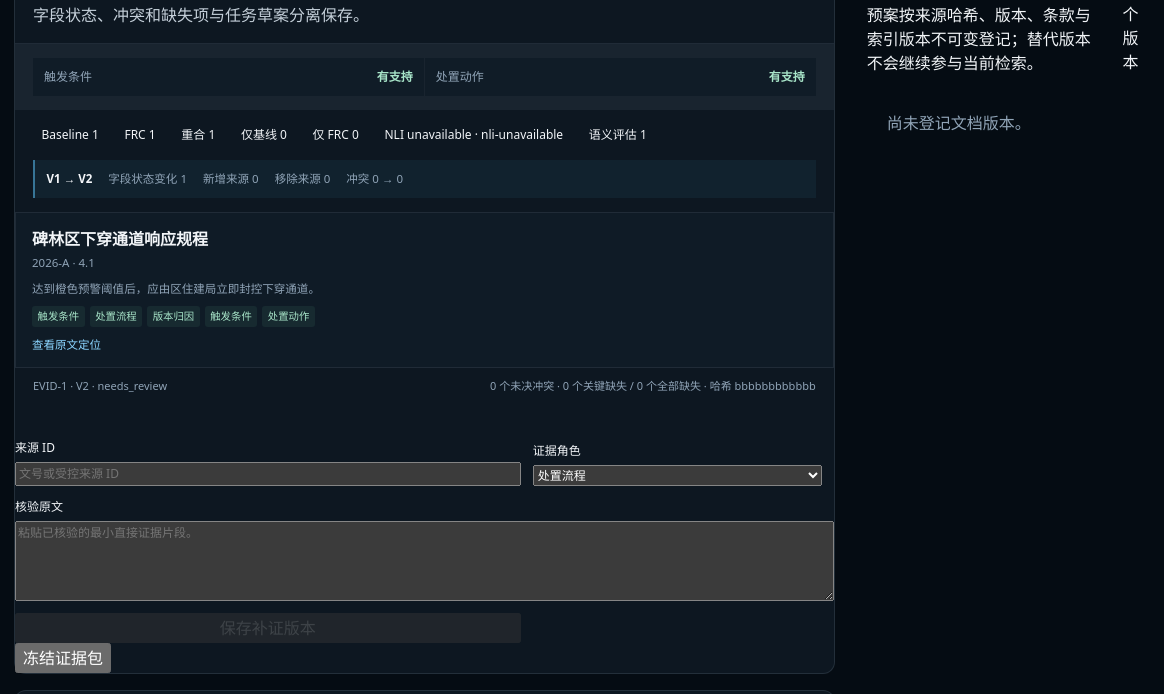
Test: ResponseWorkflowPage › 展示九字段证据、原文定位、NLI 降级状态和版本差异
This screenshot has width=1164, height=694.
(page scrolled)
expect the text "NLI unavailable · nli-unavailable" is shown: met, box [376,122,572,148]
expect the text "V1 → V2" is shown: met, box [47,170,92,187]
Click the button "查看原文定位": [67, 344] box [32,336,101,353]
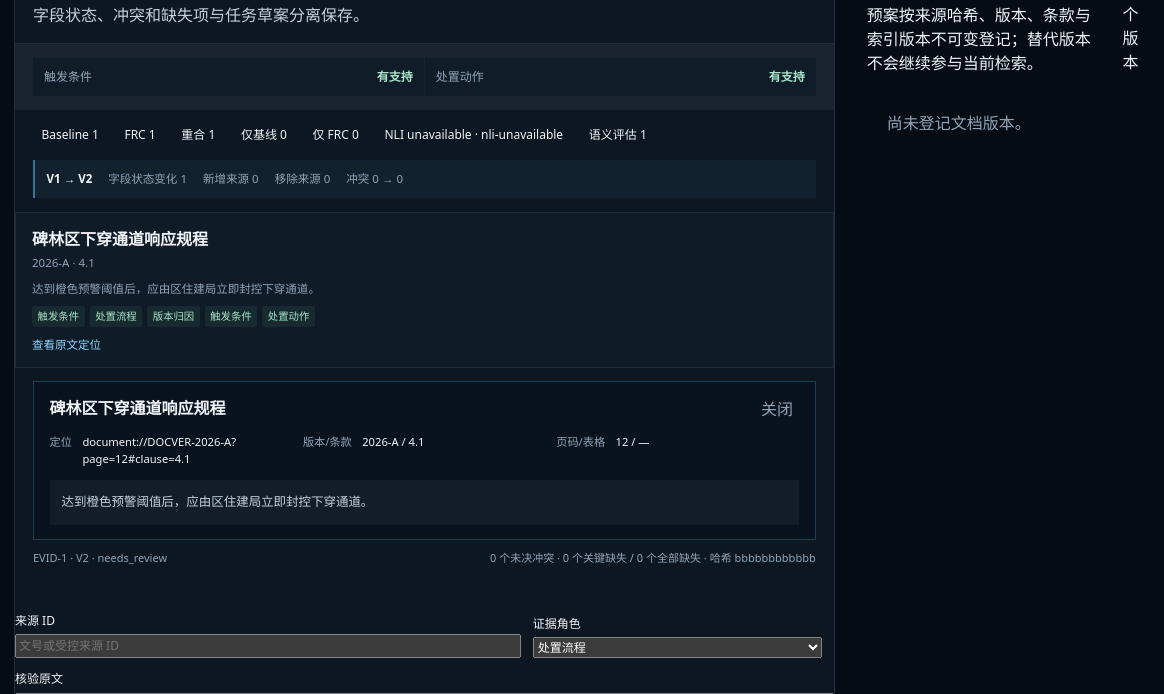
expect the text "document://DOCVER-2026-A?page=12#clause=4.1" is shown: met, box [82,434,236,466]
expect the element named "证据原文定位" is shown: met, box [33,381,816,540]
